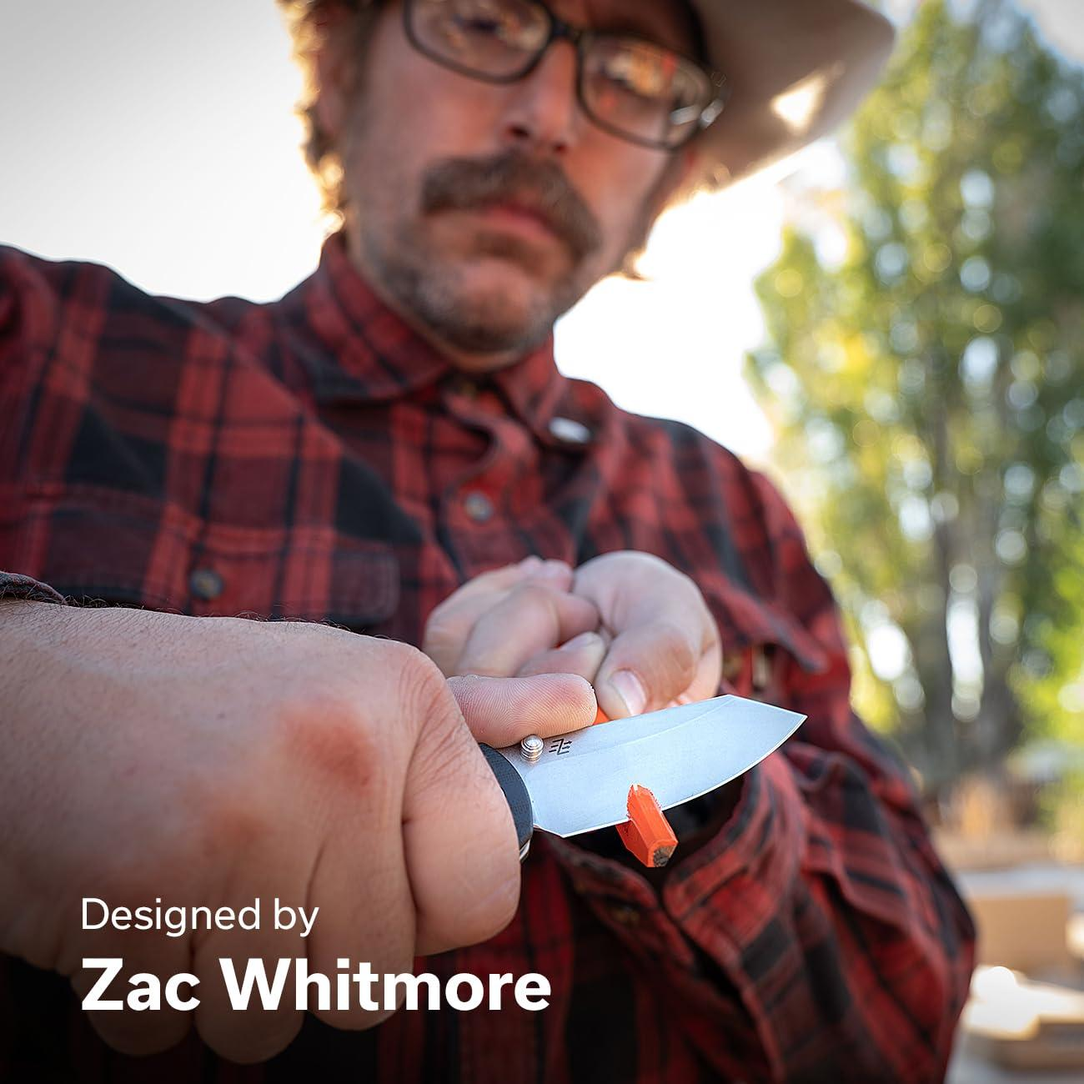Knife: (0, 0, 977, 1084), (54, 607, 509, 1058), (516, 691, 809, 853)
